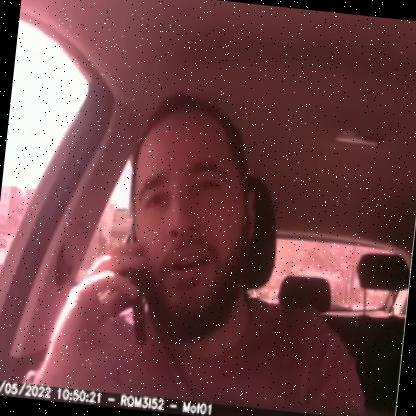phone: (106, 214, 170, 356)
